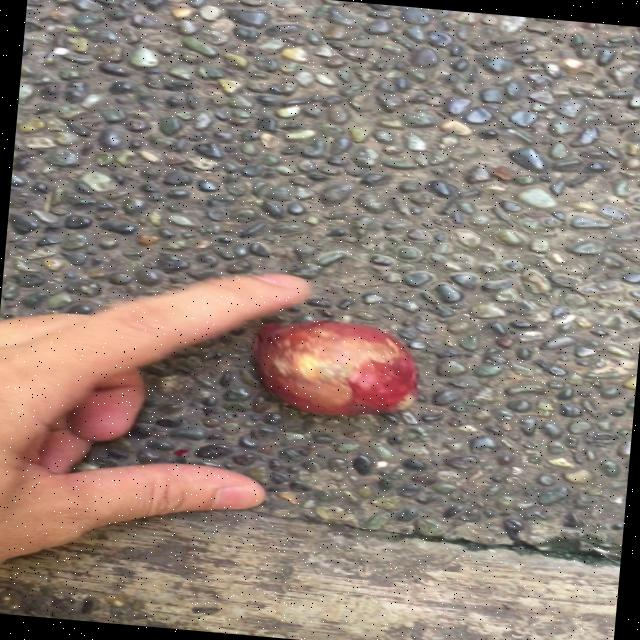Onion: (253, 320, 417, 415)
